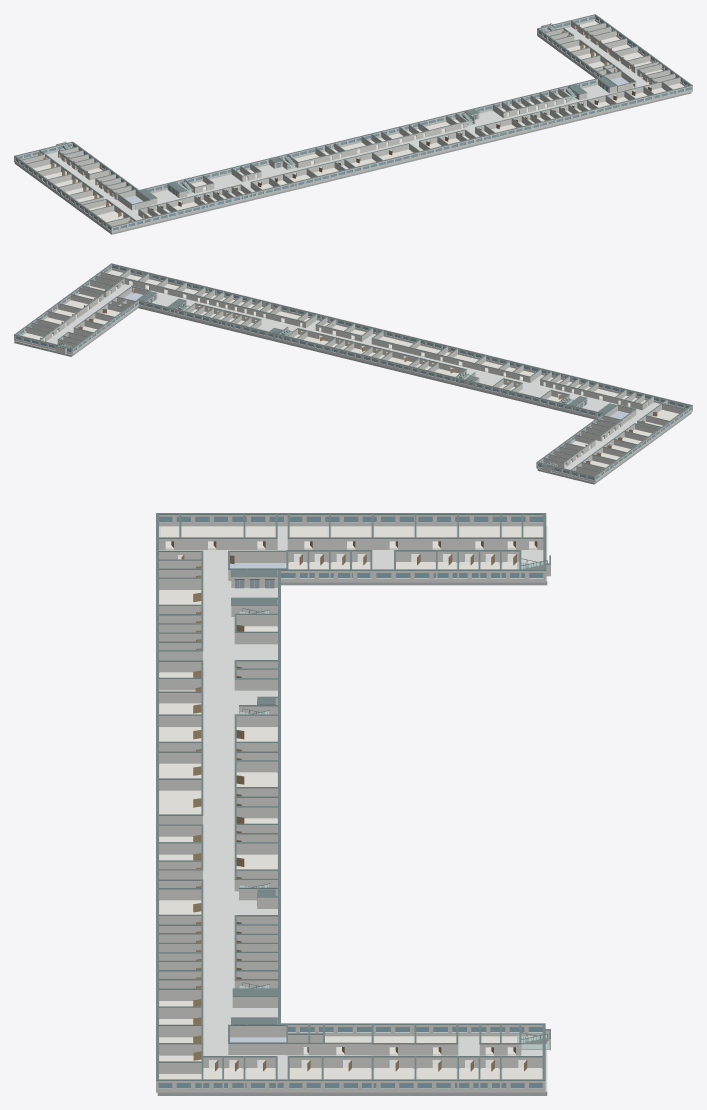
The picture shows the model from 3 angles, top to bottom: view 1: azimuth 30°, elevation 25°; view 2: azimuth 150°, elevation 25°; view 3: azimuth 270°, elevation 25°; orthographic projection. The views are drawn at different scales.
Parts seen in each view (by area): view 1: wall, cap, floor, room, glass, slab, door, stair; view 2: wall, cap, floor, room, glass, slab, door; view 3: wall, floor, cap, room, glass, door, slab.
Boxes of the visible parts, x1=… form: wall: x1=14, y1=15, x2=692, y2=233; cap: x1=14, y1=14, x2=692, y2=227; floor: x1=47, y1=23, x2=683, y2=221; room: x1=33, y1=21, x2=684, y2=222; glass: x1=15, y1=16, x2=691, y2=230; slab: x1=14, y1=35, x2=691, y2=234; door: x1=38, y1=24, x2=657, y2=222; stair: x1=62, y1=25, x2=576, y2=194; wall: x1=14, y1=264, x2=692, y2=482; cap: x1=14, y1=263, x2=692, y2=476; floor: x1=14, y1=270, x2=659, y2=482; room: x1=22, y1=270, x2=678, y2=467; glass: x1=15, y1=265, x2=691, y2=479; slab: x1=14, y1=306, x2=691, y2=484; door: x1=40, y1=284, x2=667, y2=471; wall: x1=156, y1=515, x2=550, y2=1092; floor: x1=159, y1=525, x2=547, y2=1091; cap: x1=156, y1=513, x2=550, y2=1080; room: x1=159, y1=526, x2=542, y2=1079; glass: x1=158, y1=516, x2=544, y2=1088; door: x1=171, y1=541, x2=537, y2=1071; slab: x1=157, y1=581, x2=547, y2=1095.
Bounding box in the file's own units: 1873 × 30.49 × 551.
